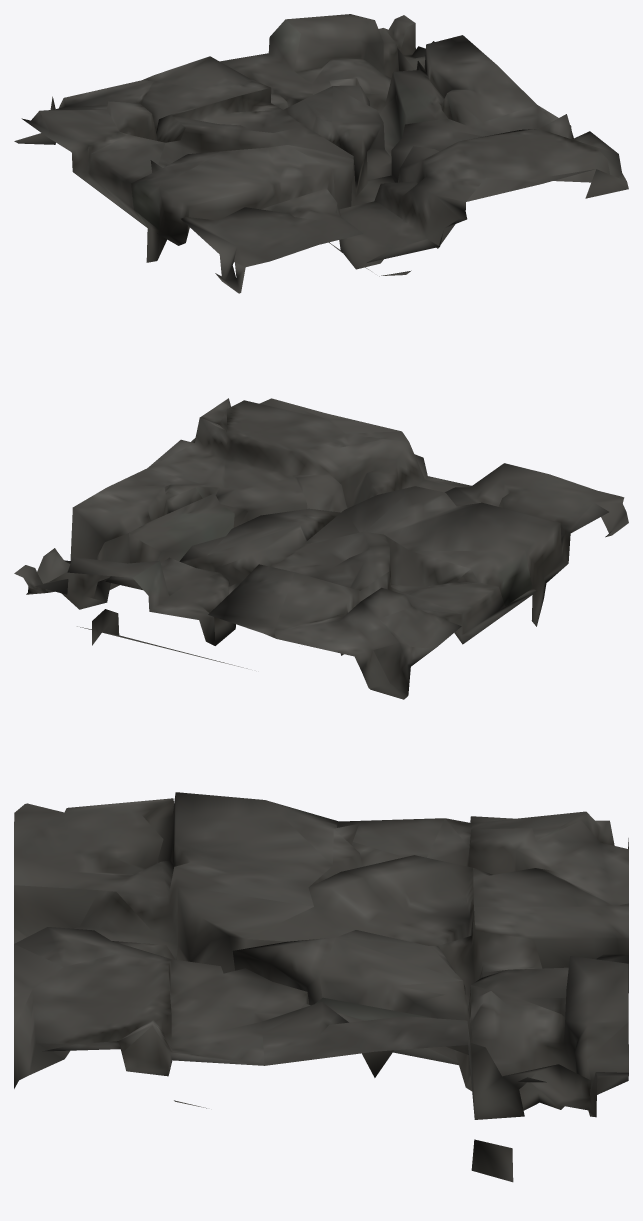
Rendered from ceiling_slab_ready.glb.
3 views of the same model, one above another, from view 1: azimuth 30°, elevation 25°; view 2: azimuth 150°, elevation 25°; view 3: azimuth 270°, elevation 25° (orthographic). The views are drawn at different scales.
Visible parts, largest first — view 1: Module; view 2: Module; view 3: Module.
Part boxes in pixels (x1,y1,x2,y2): Module: (14,14,628,293); Module: (14,398,628,699); Module: (14,792,628,1182).
Bounding box in the file's own units: 3 × 0.969 × 3.
1 material, 1 textured.
